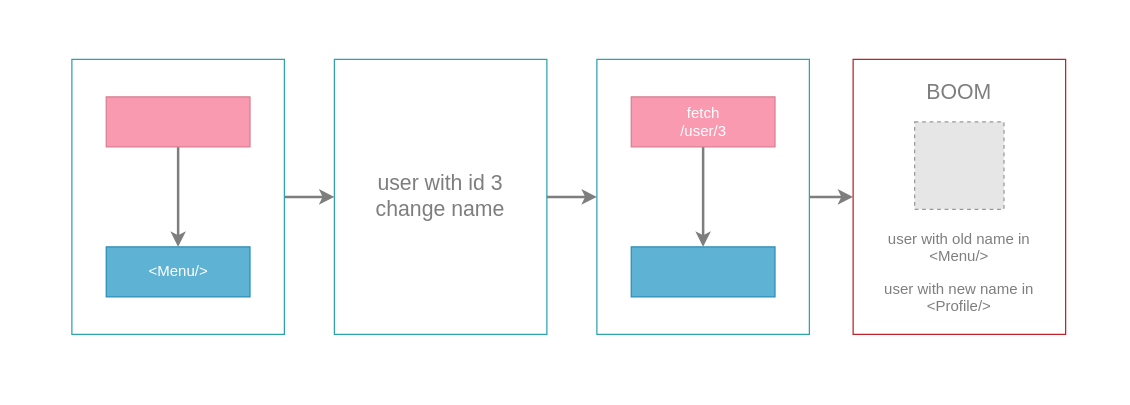
The diagram is 1130 pixels wide and 405 high, and some of its shapes have lost their labels. Grey dashed boxes stand in for pictures. Each missing label, with the centre of its shape:
<Profile/>: [702,271]
fetch /users: [177,121]
